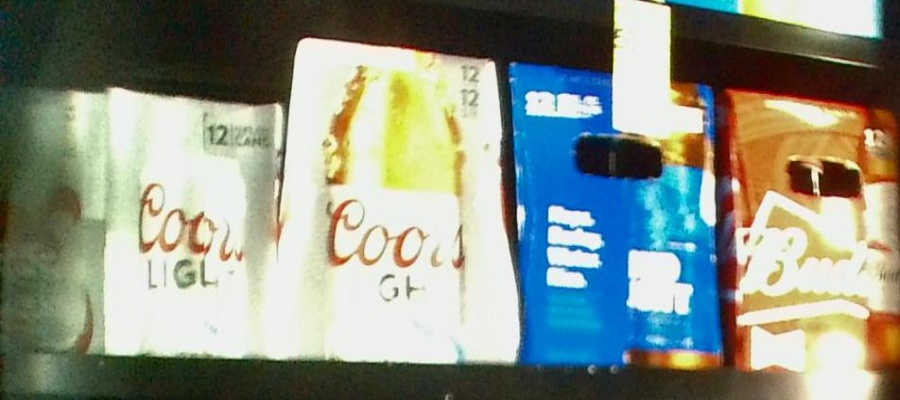bottle: (287, 38, 506, 364), (507, 58, 723, 379), (726, 87, 900, 372), (104, 88, 275, 360), (1, 87, 104, 353)
